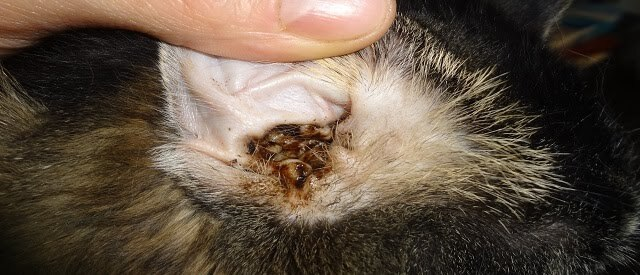tungau: (245, 125, 348, 203)
